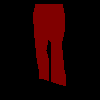pantaloni: (32, 4, 66, 86)
